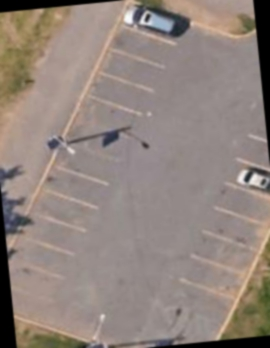parkingspot: (7, 0, 198, 331), (173, 106, 270, 304)
